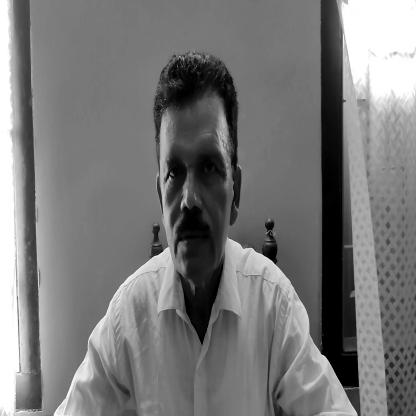Normal: (155, 60, 244, 284)
